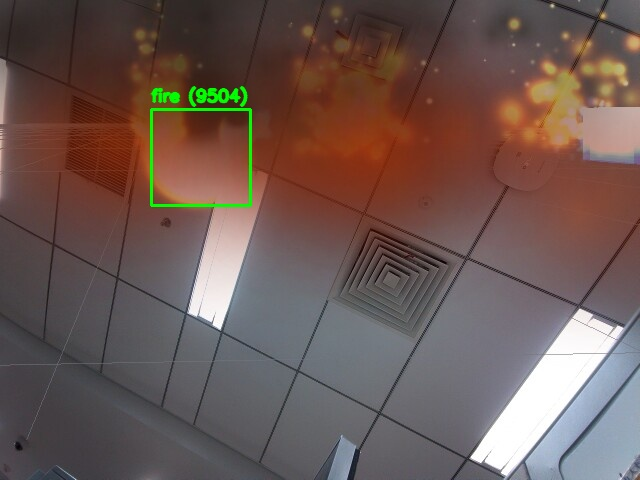fire: (151, 109, 250, 205)
